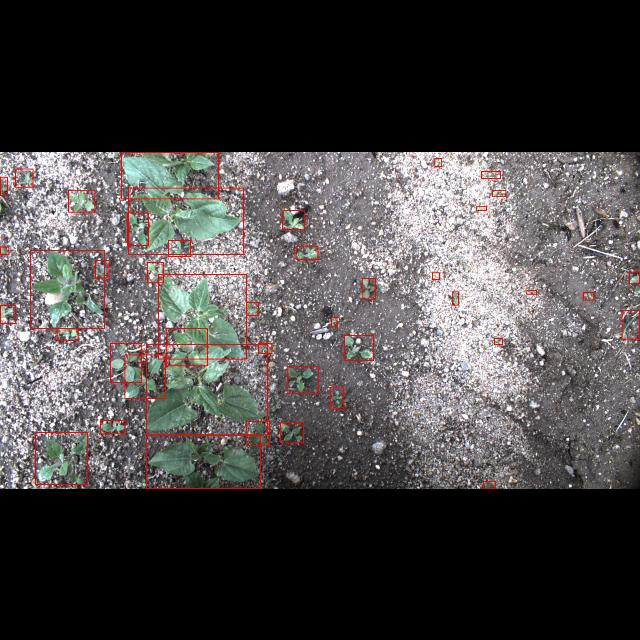crop: (146, 344, 268, 434), (128, 187, 244, 253), (158, 274, 246, 358), (146, 434, 260, 488), (30, 250, 104, 328), (122, 152, 218, 198)
weed: (36, 432, 88, 484), (125, 354, 165, 398), (167, 328, 207, 366), (110, 342, 142, 382), (288, 366, 318, 394), (344, 334, 374, 360), (128, 212, 148, 244), (247, 421, 270, 445), (69, 190, 95, 210), (622, 310, 640, 338), (280, 422, 304, 442), (282, 210, 304, 228), (100, 420, 126, 434), (169, 240, 191, 256), (15, 168, 33, 186), (147, 262, 163, 282), (296, 245, 318, 259), (331, 387, 344, 409), (362, 278, 376, 298), (1, 305, 16, 323), (56, 328, 78, 340), (95, 260, 109, 276), (246, 301, 258, 315), (481, 170, 501, 178), (258, 343, 272, 353), (1, 176, 8, 194), (629, 271, 639, 283), (582, 292, 594, 300), (0, 246, 10, 254), (483, 482, 495, 488), (452, 292, 458, 304), (434, 158, 442, 166), (476, 204, 486, 210), (492, 190, 506, 194), (494, 338, 502, 344), (432, 272, 440, 278), (526, 289, 536, 293), (332, 318, 336, 327)
